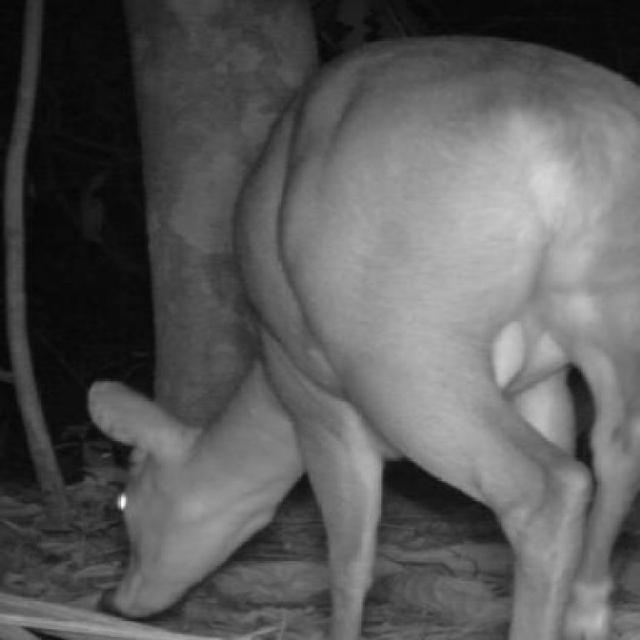Deer: (48, 19, 640, 639)
